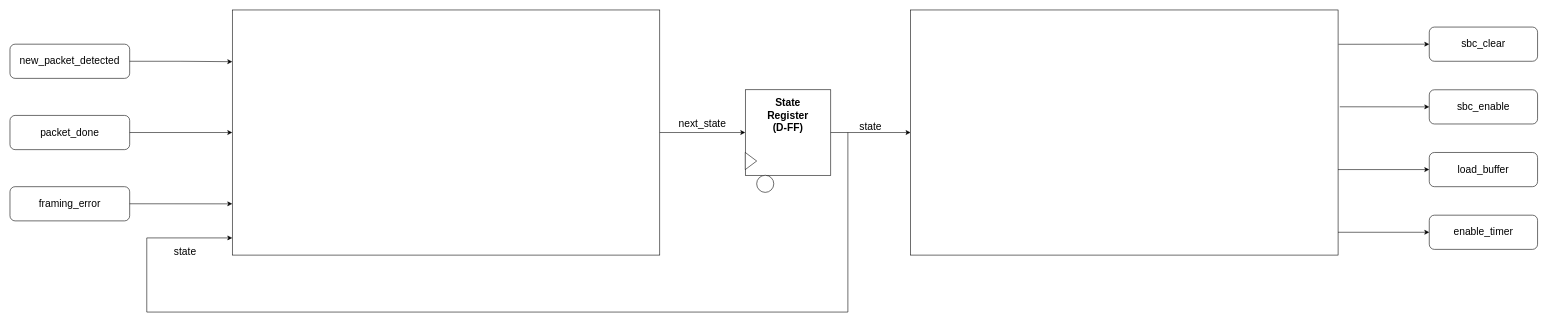
The diagram is 1548 pixels wide and 327 high, and some of its shapes have lost their labels. Each missing label, with the centre of its shape:
"ALWAYS_COMB: Next-State FSM Logic" belongs at point 446,132.
"ALWAYS_COMB: Output FSM Logic" belongs at point 1124,132.
